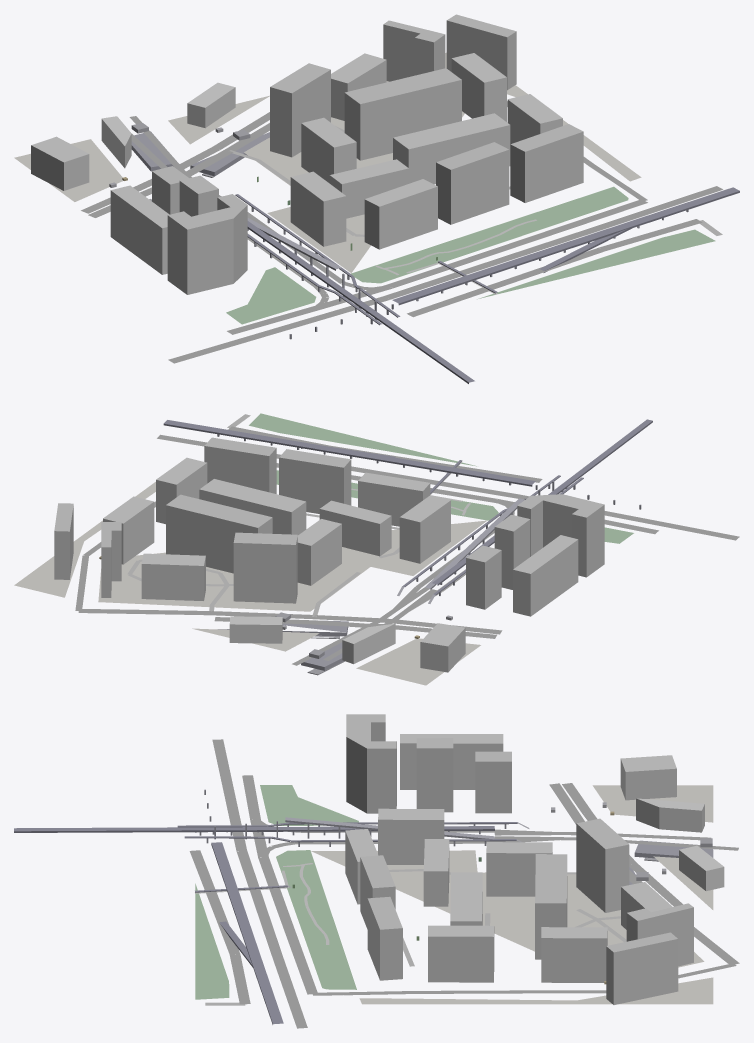
3 renders of one model, top to bottom at view 1: azimuth 30°, elevation 25°; view 2: azimuth 150°, elevation 25°; view 3: azimuth 270°, elevation 25°, orthographic. The views are drawn at different scales.
Bounding box in the file's own units: 662 × 88.52 × 701.
